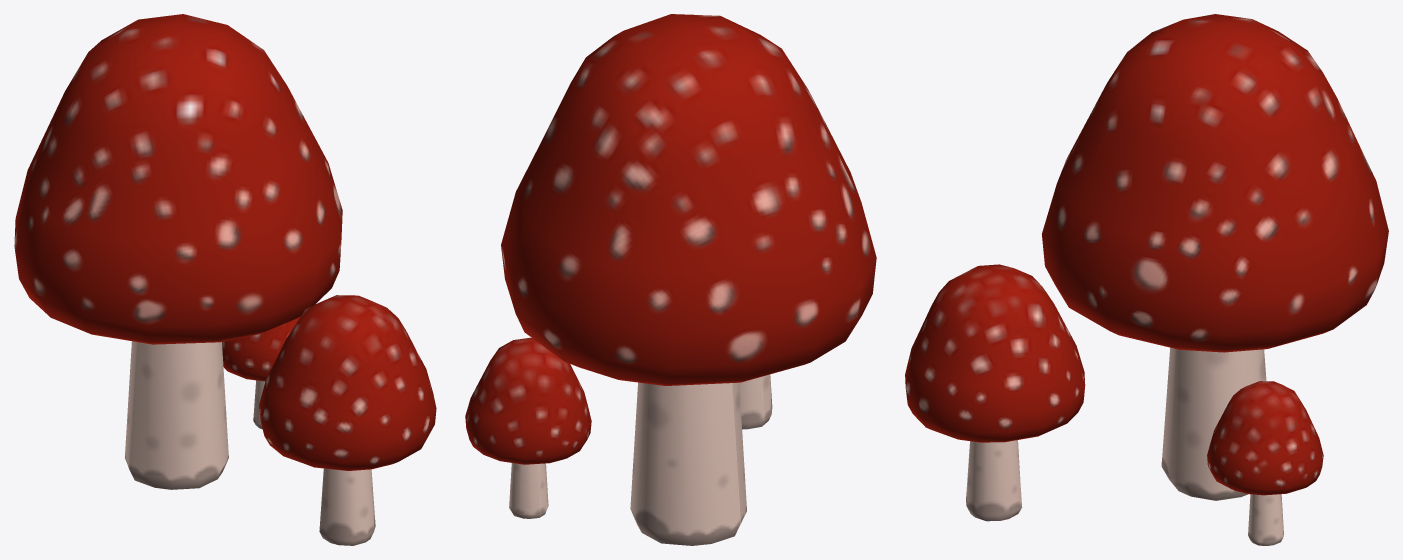
Rendered from houba_muchomurka.glb.
3 renders of one model, left to right at view 1: azimuth 30°, elevation 25°; view 2: azimuth 150°, elevation 25°; view 3: azimuth 270°, elevation 25°, orthographic. The views are drawn at different scales.
Visible parts, largest first — view 1: houba_muchomurka; view 2: houba_muchomurka; view 3: houba_muchomurka.
Part boxes in pixels (x1,y1,x2,y2): houba_muchomurka: [14, 14, 436, 545]; houba_muchomurka: [465, 14, 876, 545]; houba_muchomurka: [905, 14, 1388, 545].
Bounding box in the file's own units: 0.081 × 0.1091 × 0.1055.
1 material, 1 textured.
